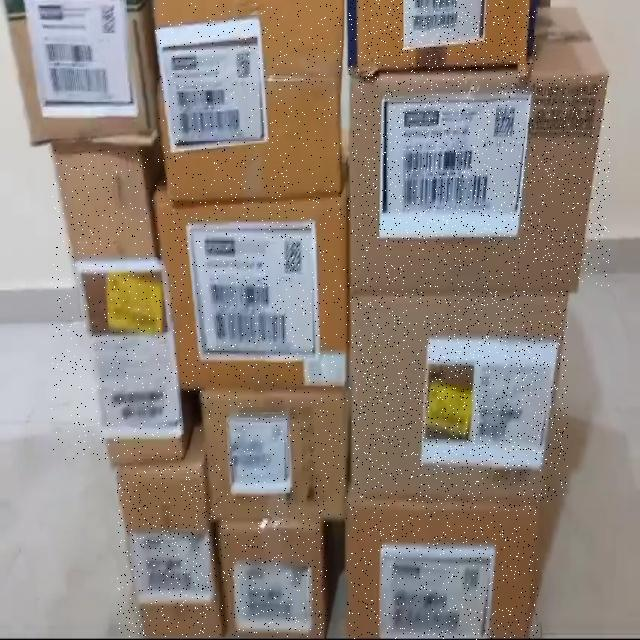BoxFace: (352, 75, 610, 287), (352, 289, 568, 502), (51, 150, 184, 460), (153, 196, 352, 392), (154, 3, 342, 195), (347, 499, 538, 640), (9, 0, 156, 153), (200, 392, 348, 519), (118, 465, 218, 637), (350, 0, 538, 75), (218, 517, 328, 637)
